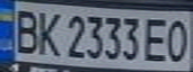2: (63, 10, 87, 60)
3: (81, 11, 106, 61), (121, 14, 145, 62), (103, 12, 124, 61)
B: (9, 6, 42, 55)
E: (142, 14, 172, 63)
K: (33, 7, 63, 57)
O: (163, 16, 193, 63)
